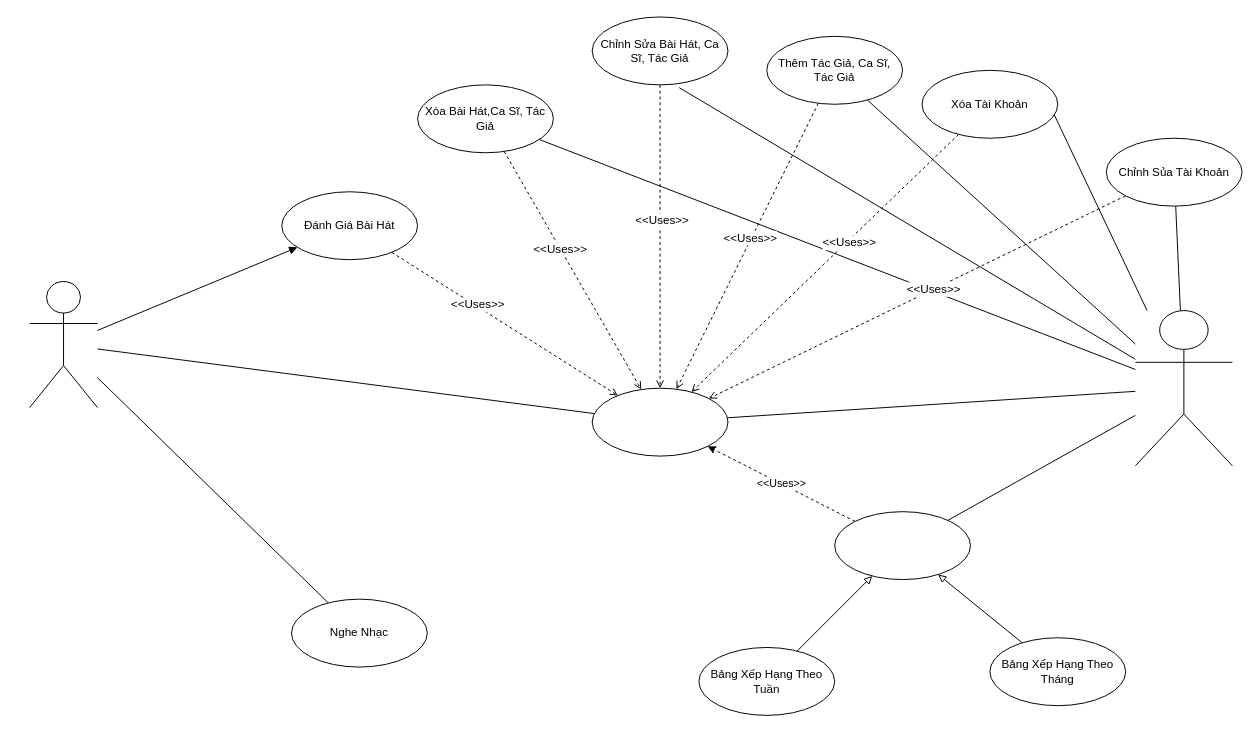
This 1259x732 diagram has some shape labels left out. The shapes that lost their labels are listed below. From the top down, each one's box as (x1, y1, x2, y2) in pixels, then its label:
(29, 281, 97, 408): Người Nghe Nhạc
(1134, 310, 1232, 466): Admin
(591, 387, 728, 456): Đăng Nhập
(834, 511, 970, 580): Thống Kê Bảng Xếp Hạng
